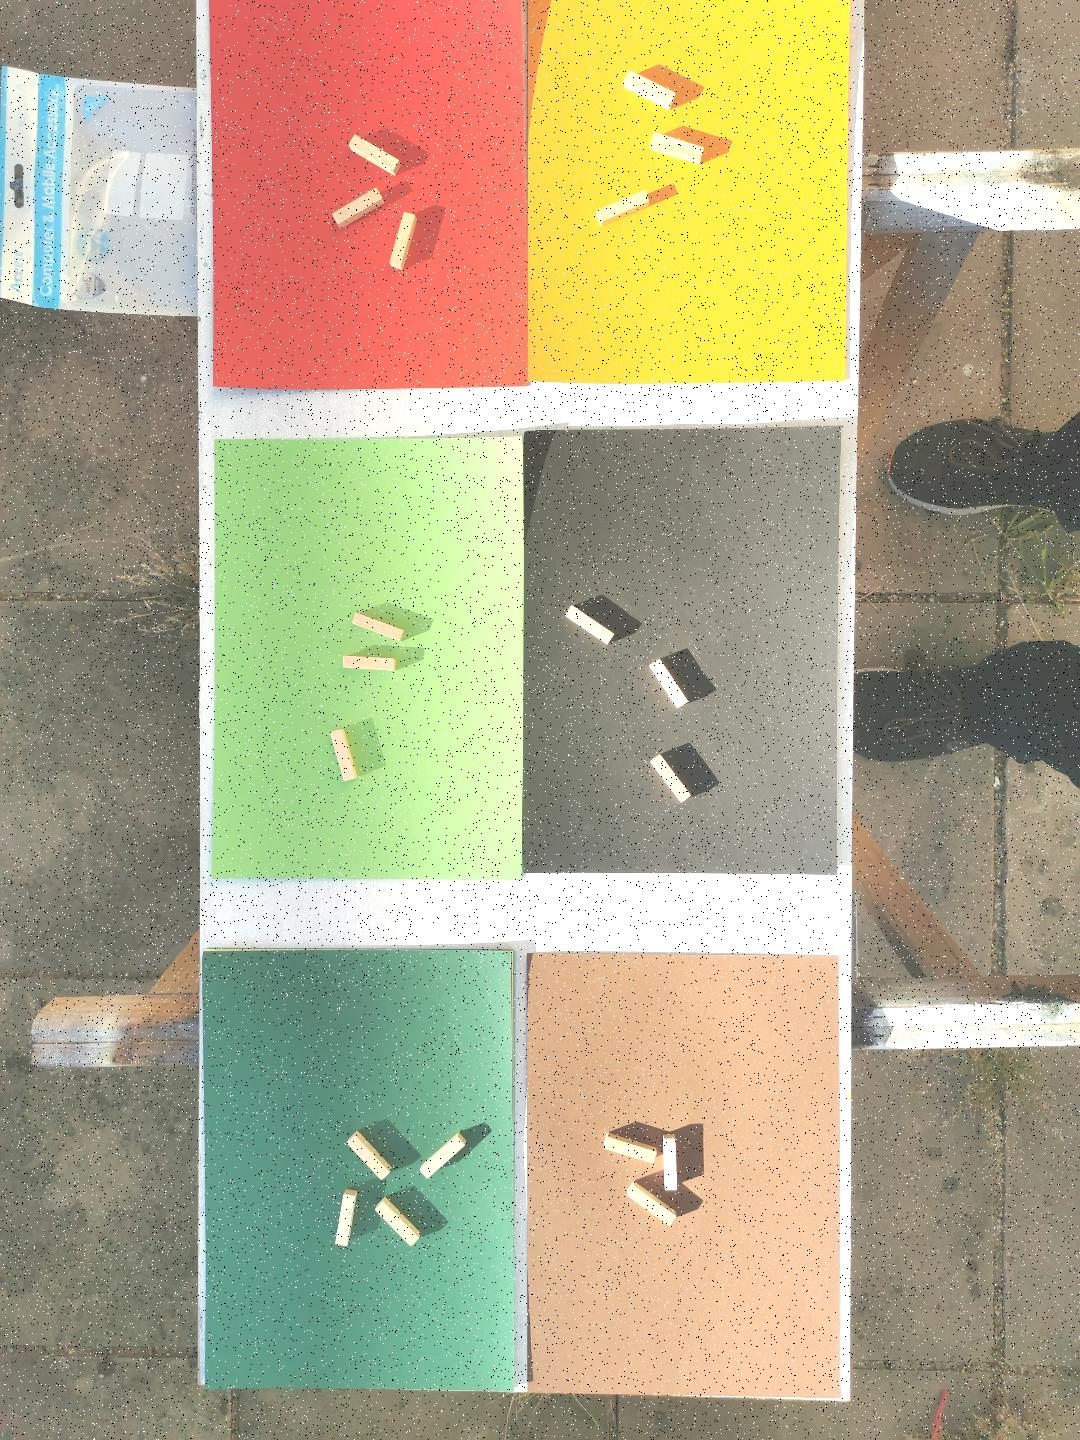jenga: (627, 1181, 678, 1226), (374, 1198, 419, 1246), (419, 1133, 467, 1178), (346, 1131, 391, 1178), (624, 70, 675, 110), (650, 754, 692, 802), (332, 188, 382, 228), (650, 658, 689, 709), (565, 605, 616, 644), (349, 135, 399, 174), (596, 191, 650, 225), (388, 211, 416, 270), (650, 132, 703, 163), (605, 1133, 658, 1162), (329, 728, 357, 782), (352, 613, 405, 641), (335, 1190, 357, 1246), (343, 655, 397, 672), (664, 1133, 678, 1190)
